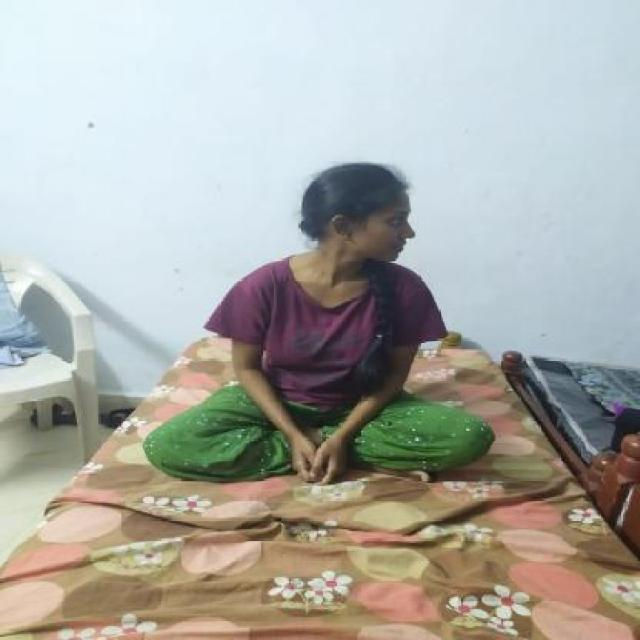cheating: (202, 159, 460, 356)
